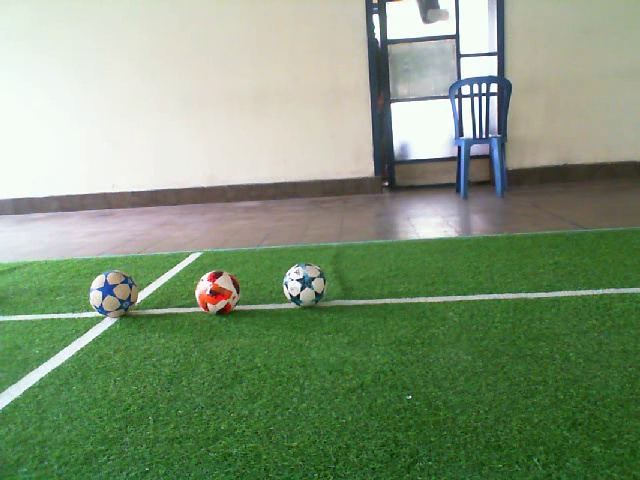ball: (88, 268, 139, 319), (194, 269, 242, 317), (281, 260, 328, 309)
